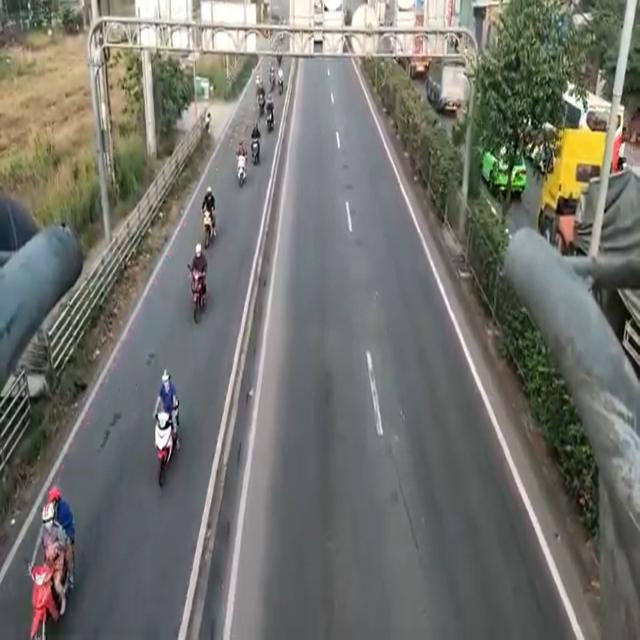motor: (149, 396, 179, 488), (32, 548, 58, 640), (201, 192, 218, 243), (192, 262, 209, 311), (247, 121, 264, 166), (236, 141, 248, 182)
